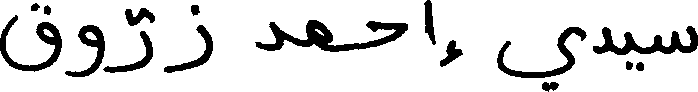أ: (422, 0, 458, 67)
ح: (367, 18, 407, 48)
د: (254, 19, 282, 50), (593, 25, 612, 55)
ر: (106, 25, 152, 73)
ز: (165, 2, 213, 72)
س: (653, 23, 696, 54)
ق: (0, 0, 63, 72)
م: (305, 18, 332, 53)
و: (65, 23, 108, 77)
ي: (495, 25, 586, 90), (623, 30, 641, 72)
